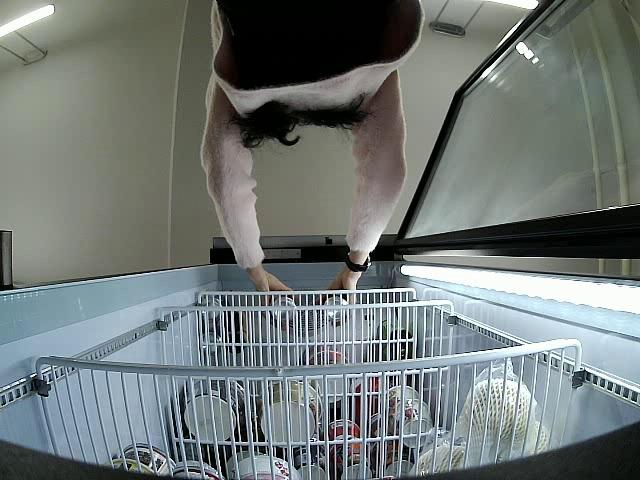00_hand: (252, 267, 296, 302), (326, 272, 363, 306)
